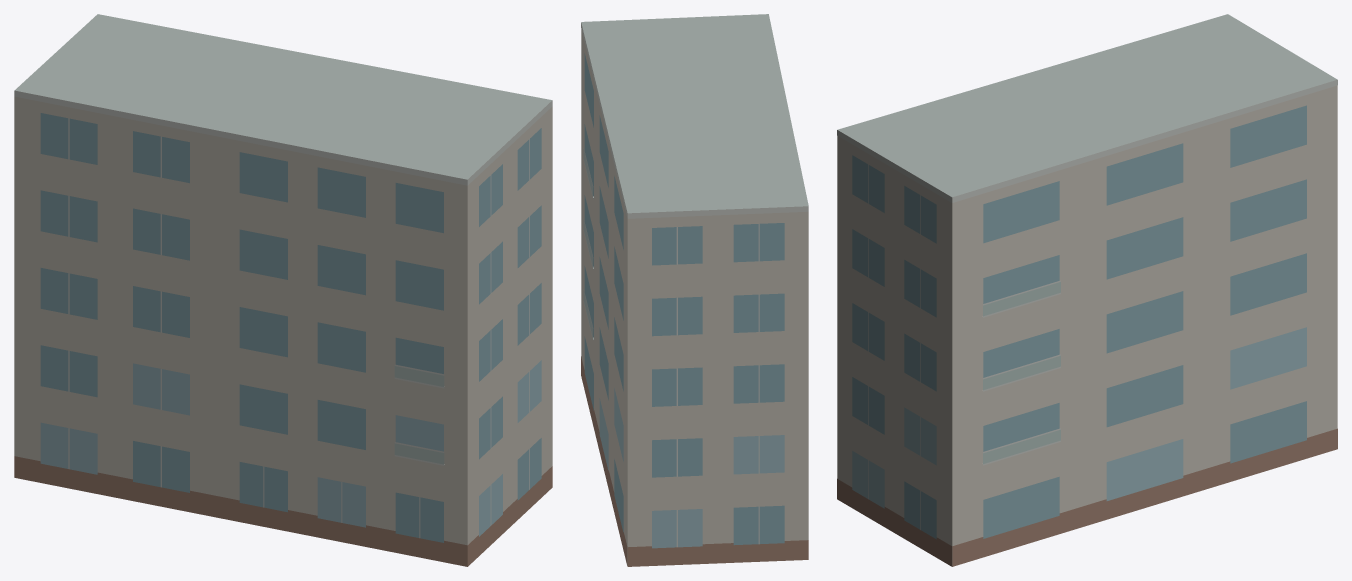
File: survey-upis-32695149.glb
3 renders of one model, left to right at view 1: azimuth 30°, elevation 25°; view 2: azimuth 150°, elevation 25°; view 3: azimuth 270°, elevation 25°, orthographic. The views are drawn at different scales.
Visible parts, largest first — view 1: survey-upis-32695149.tmp; view 2: survey-upis-32695149.tmp; view 3: survey-upis-32695149.tmp.
Boxes of the visible parts, x1,y1,x2,y2 form: survey-upis-32695149.tmp: (14, 14, 552, 566); survey-upis-32695149.tmp: (581, 14, 808, 566); survey-upis-32695149.tmp: (837, 14, 1337, 566).
Size of the model in its own units: 16.72 by 15.7 by 19.28.
